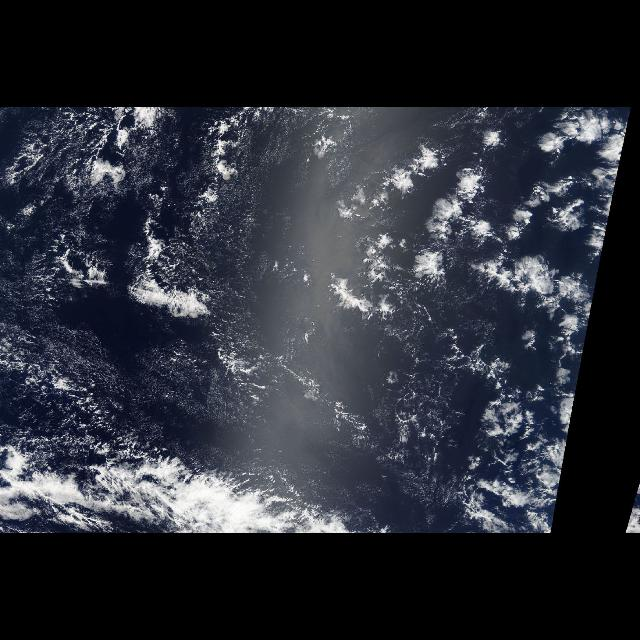Flower: (308, 110, 632, 332)
Gravel: (13, 111, 573, 495)
